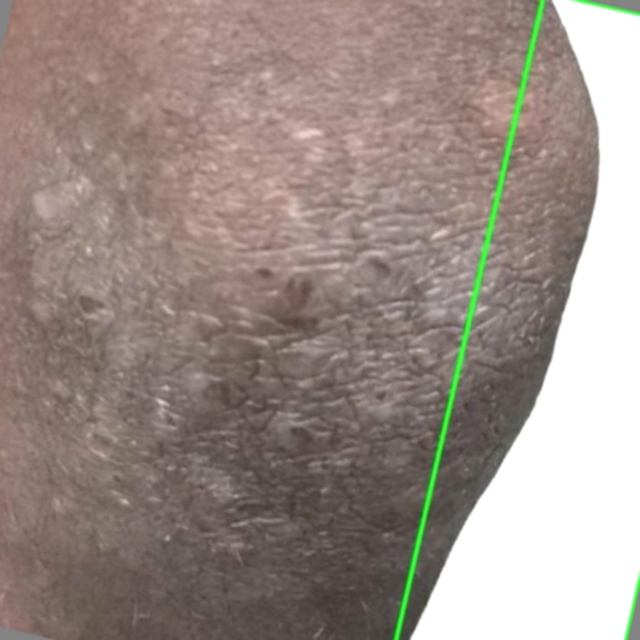Eczema: (396, 0, 639, 639)
